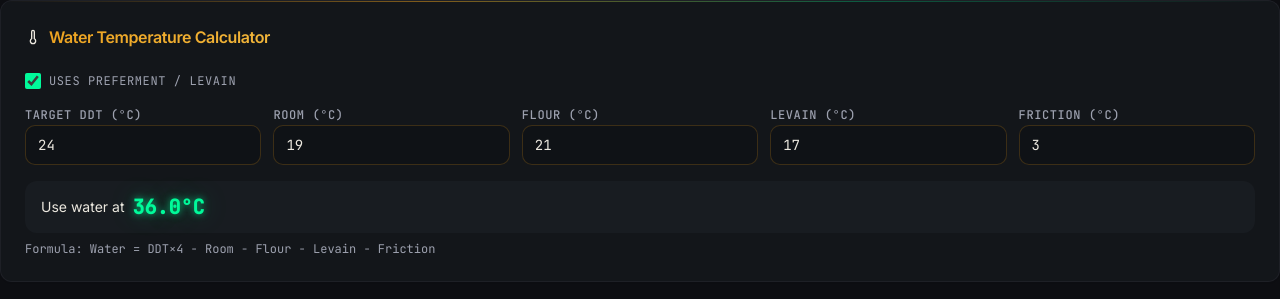
Scenario: allows a manual levain override and flags only water temperatures outside the practical range
The width and height of the screenshot is (1280, 299).
Earlier steps of the test are not shown.
expect the text "36.0°C" is shown: met, box [132,193,204,221]
Replace the text in the number field below "Target DDT (°C)" with "30" at (143, 145), box [25,125,261,165]
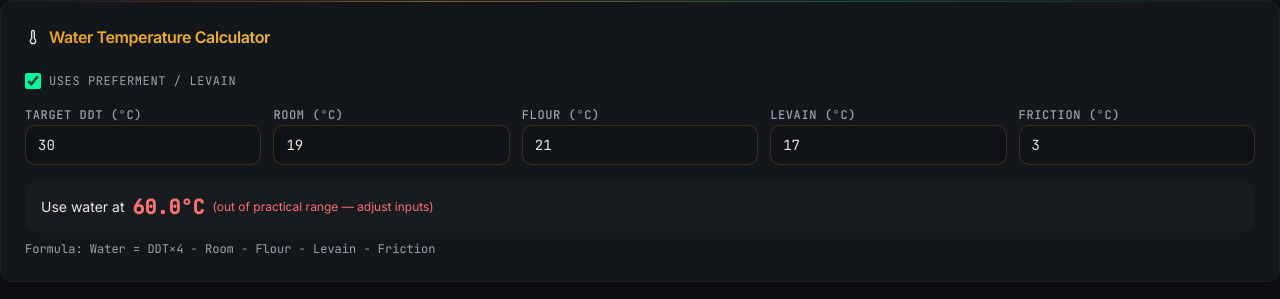
expect the text "60.0°C" is shown: met, box [132,193,204,221]
expect the text "(out of practical range — adjust inputs)" is shown: met, box [212,199,434,215]
Replace the text in the number field below "Target DDT (°C)" with "27.5" at (143, 145), box [25,125,261,165]
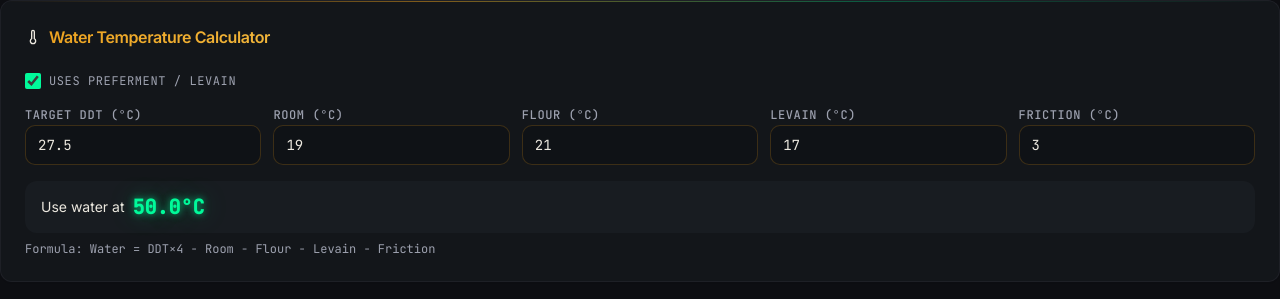
expect the text "50.0°C" is shown: met, box [132,193,204,221]
expect the text "out of practical range" is gone: met
Replace the text in the number field below "Target DDT (°C)" with "12" at (143, 145), box [25,125,261,165]
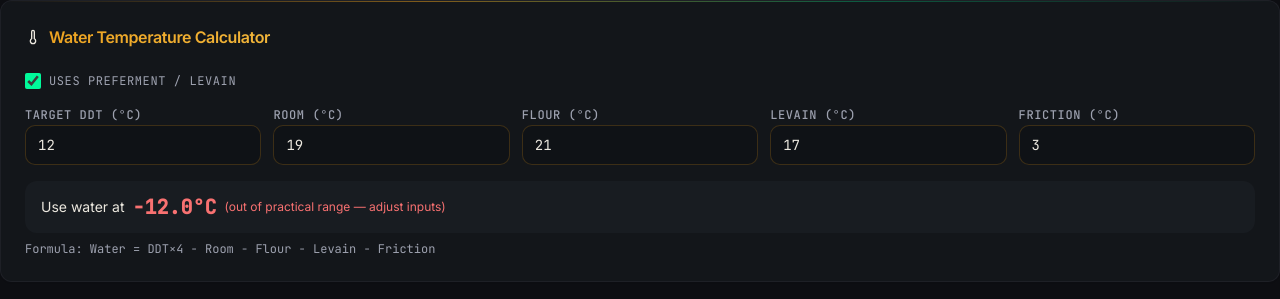
expect the text "-12.0°C" is shown: met, box [132,193,216,221]
expect the text "(out of practical range — adjust inputs)" is shown: met, box [224,199,446,215]
Replace the text in the number field below "Target DDT (°C)" with "15" at (143, 145), box [25,125,261,165]
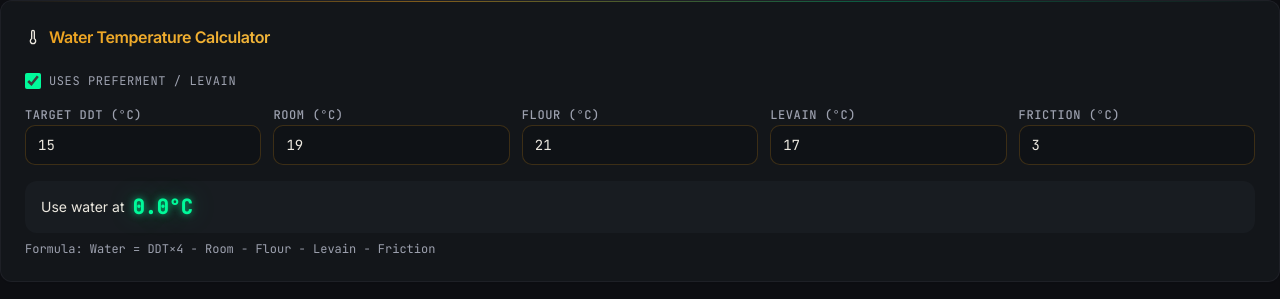
expect the text "0.0°C" is shown: met, box [132,193,192,221]
expect the text "out of practical range" is gone: met
Replace the text in the number field below "Target DDT (°C)" with "25" at (143, 145), box [25,125,261,165]
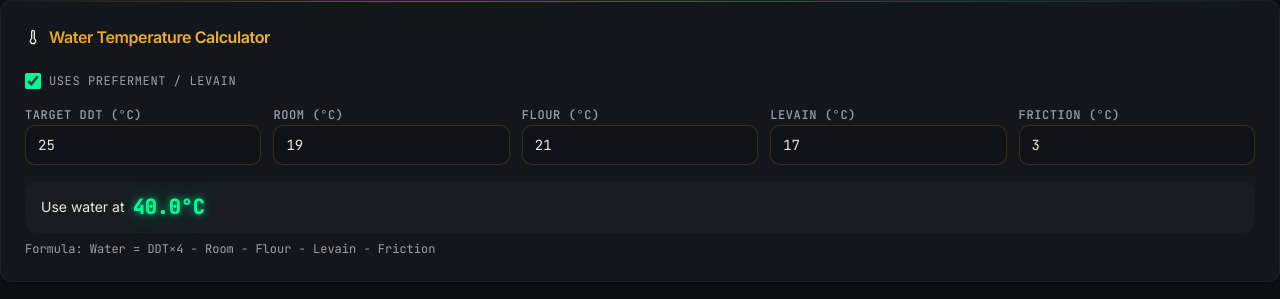
Click the checkbox labelled "Uses preferment / levain" at (33, 81), box [25,73,41,89]
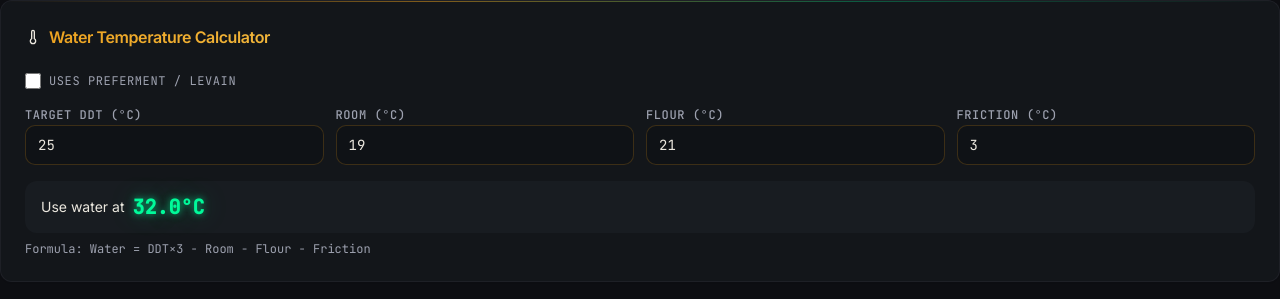
expect the text "Levain (°C)" is gone: met
expect the text "Formula: Water = DDT×3 − Room − Flour − Friction" is shown: met, box [25,241,371,257]
expect the text "32.0°C" is shown: met, box [132,193,204,221]
